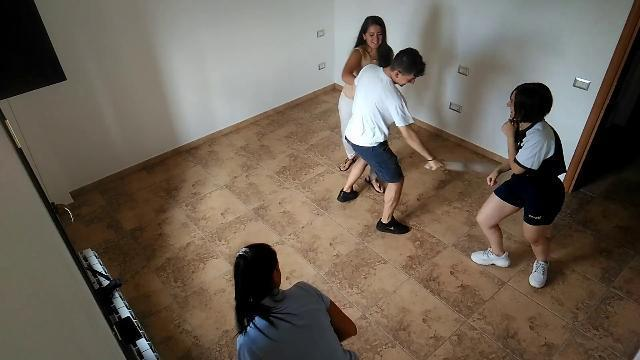non-violence: (468, 81, 570, 291), (230, 241, 360, 360), (334, 11, 392, 195)
violence: (334, 43, 504, 237)
